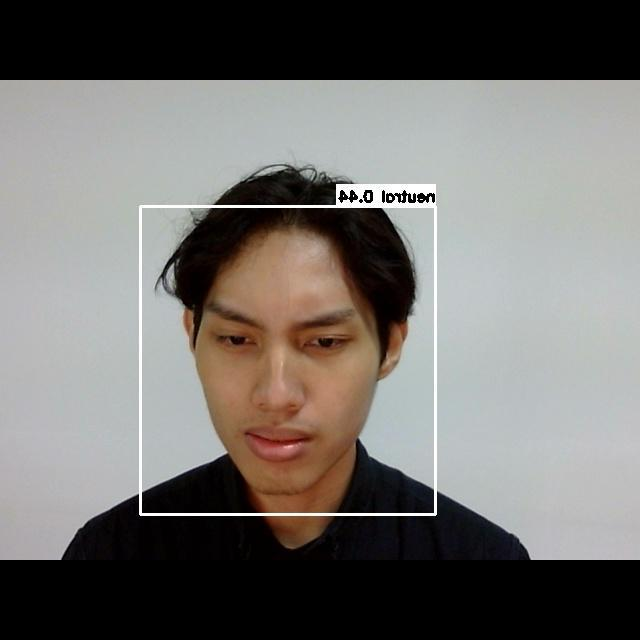Angry: (189, 284, 384, 471)
